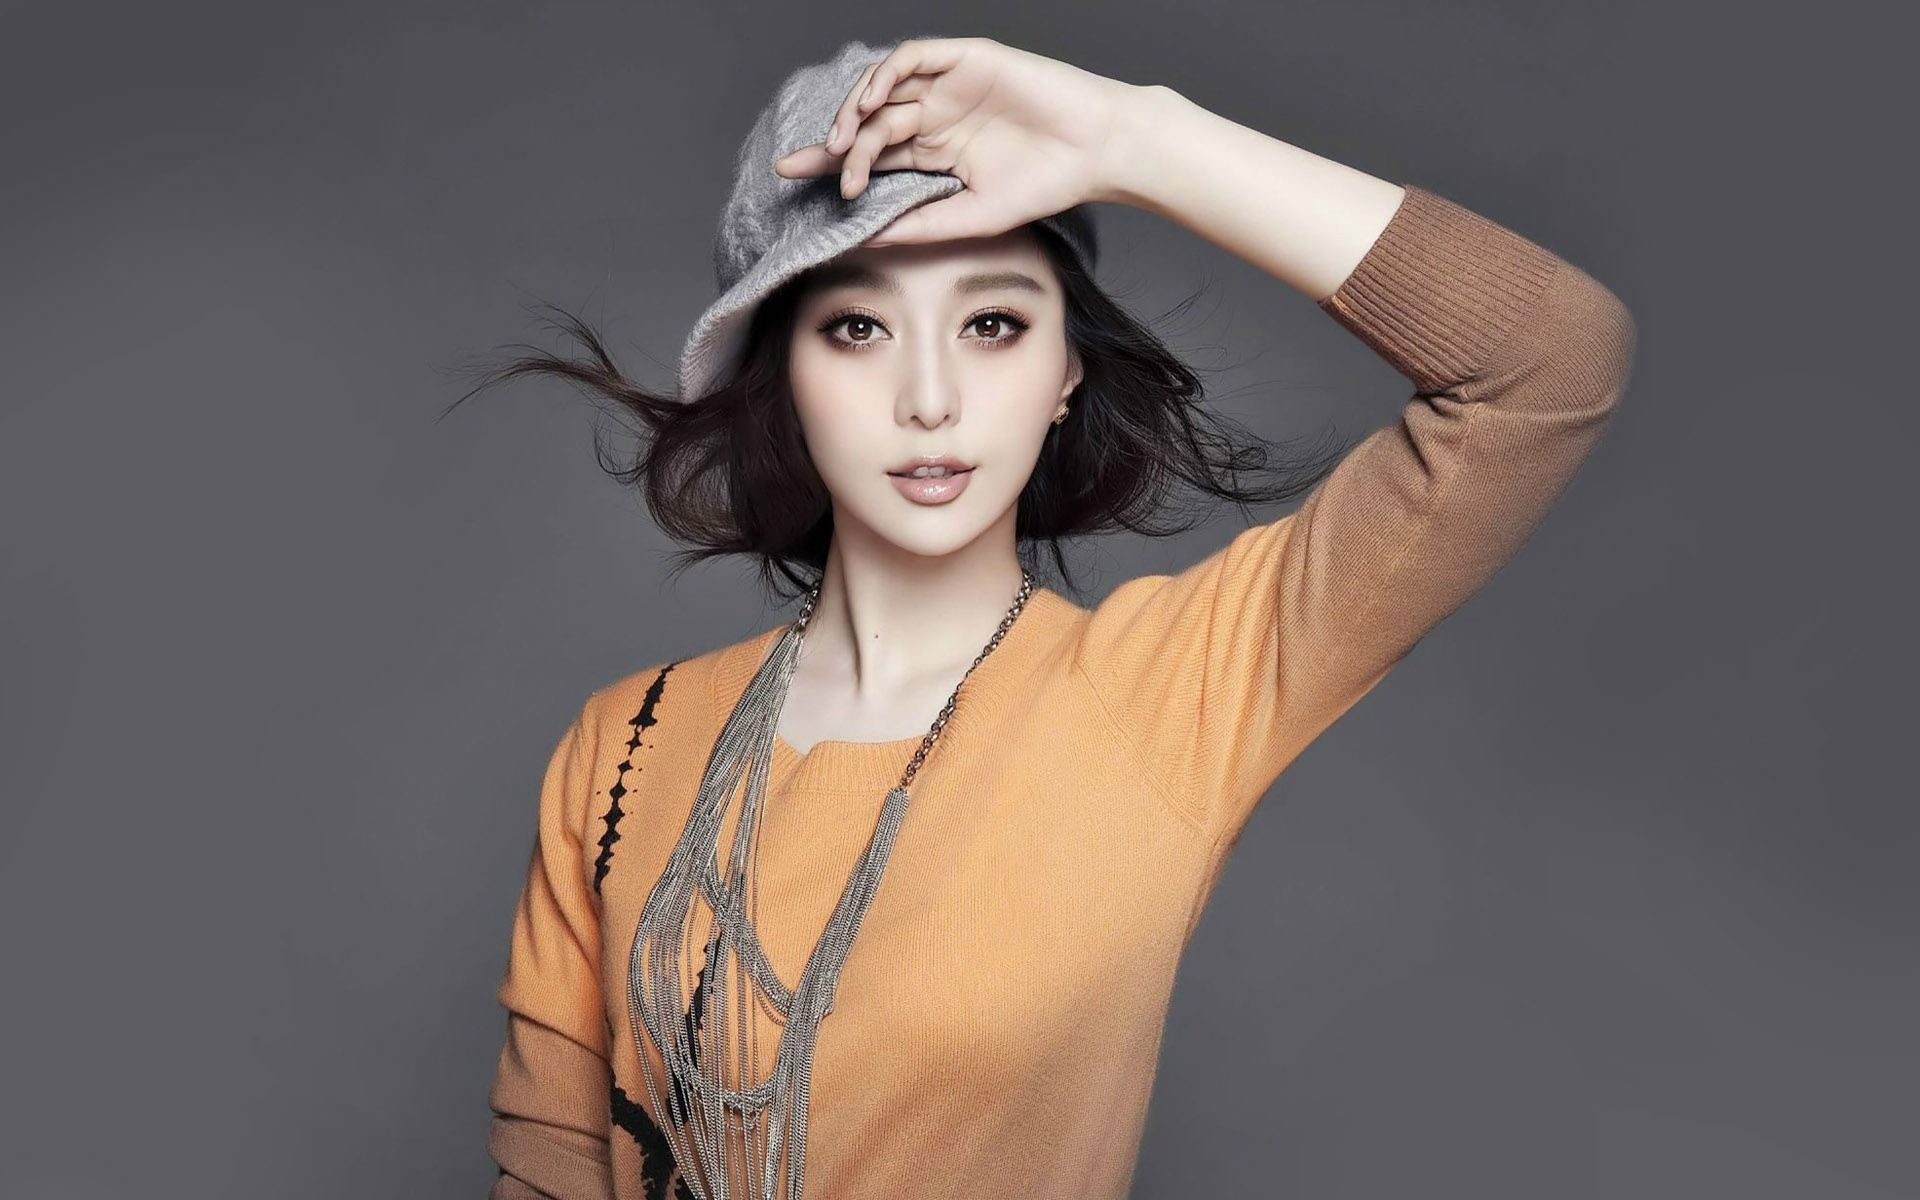person: (661, 47, 1293, 1172)
